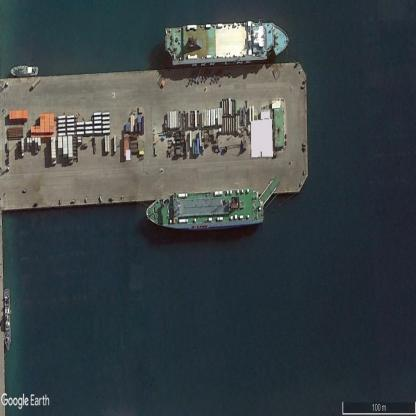ship: (162, 23, 289, 62), (142, 192, 264, 227)
